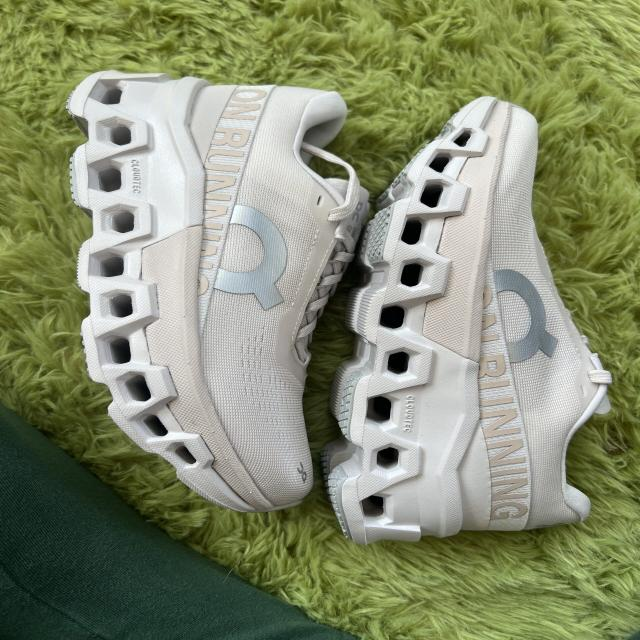OC_logo: (167, 166, 292, 366), (476, 240, 564, 428)
